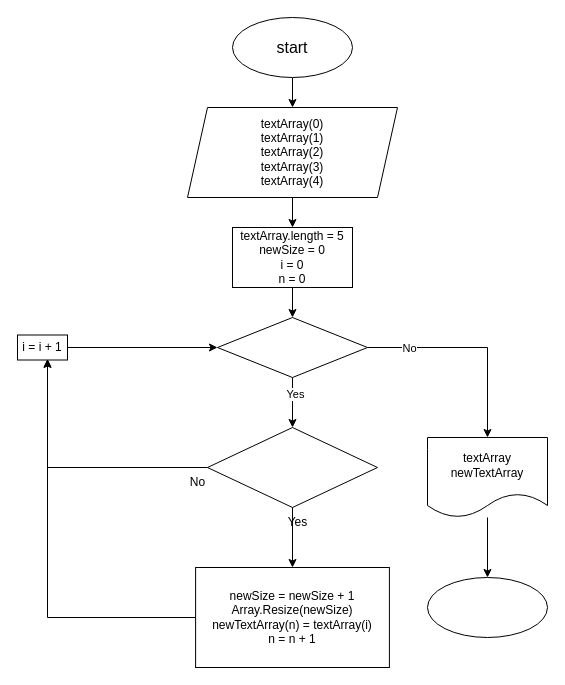
Image size: 565x685. Some labels were removed from this diagram. The shapes that lost their labels are listed below. From the top down, each one's centre as x and y in pixels, then its label:
(x=292, y=347): i < textArray.length
(x=292, y=467): textArray(i).length <= 3
(x=487, y=607): finish
